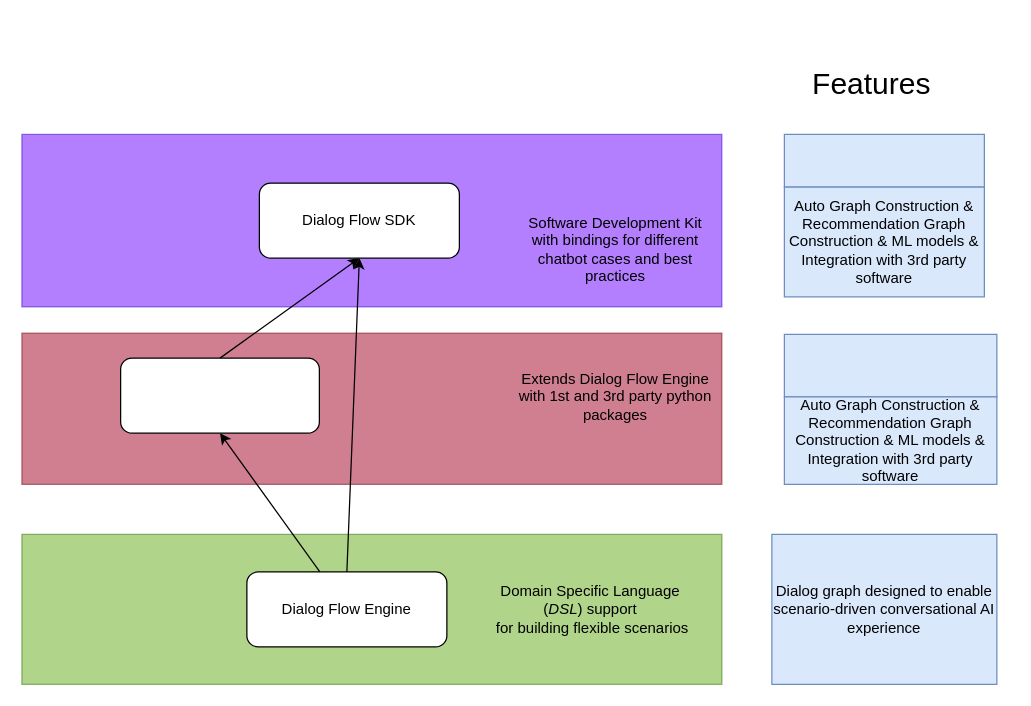
This 1031x706 diagram has some shape labels left out. The box of each missing label's shape, as (x1, y1, x2, y2) in pixels:
Data collection & Data analysis of user behaviors & Optimization Graph Execution: (783, 333, 997, 397)
Dialog Flow Addons: (119, 357, 319, 433)
Provides a runtime for standalone chatbots: (783, 133, 984, 187)
